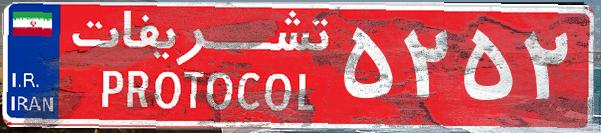2: (400, 20, 460, 115), (520, 20, 580, 115)
5: (340, 20, 400, 115), (460, 20, 520, 115)
تشریفات: (60, 8, 340, 125)
